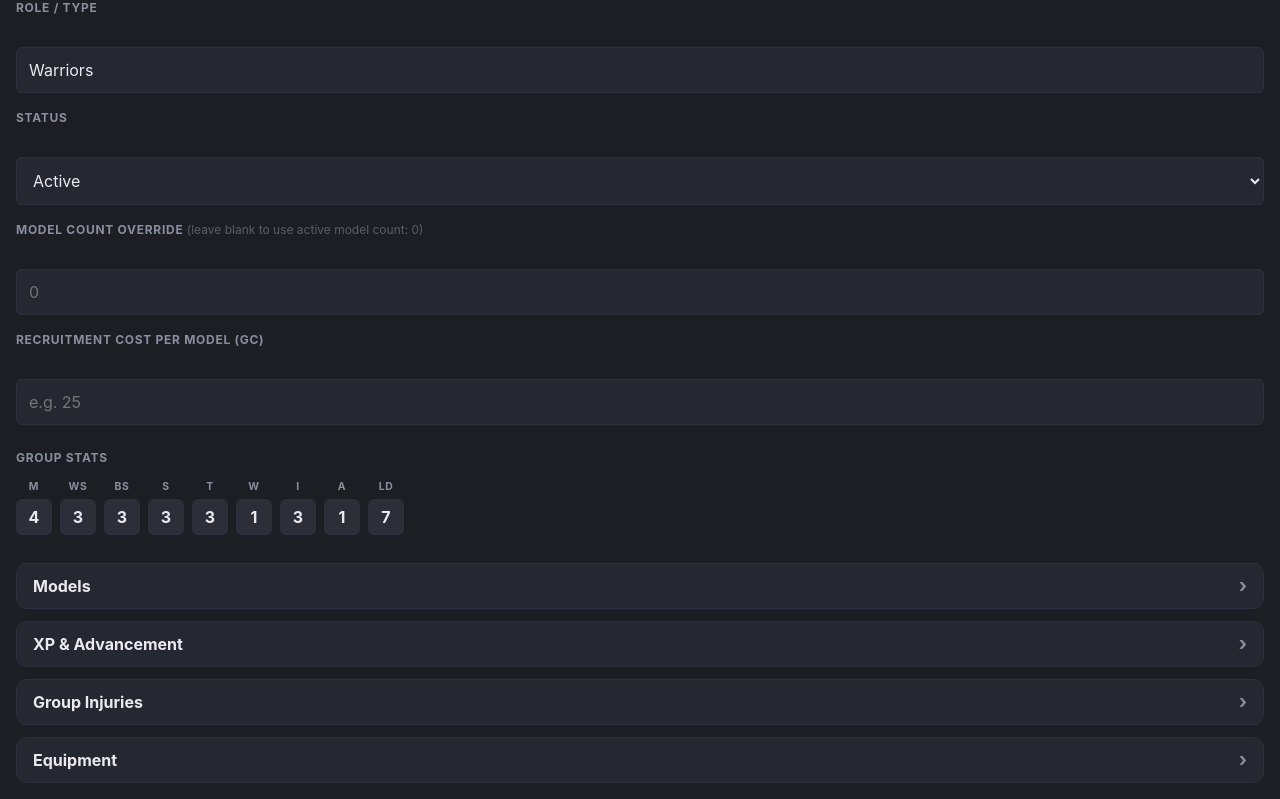
Scenario: HenchmanGroupDetailPage › can add an advancement note
(page scrolled)
Click the button "XP & Advancement ›". click: click(108, 644)
box: x1=17 y1=622 x2=1263 y2=666
(page scrolled)
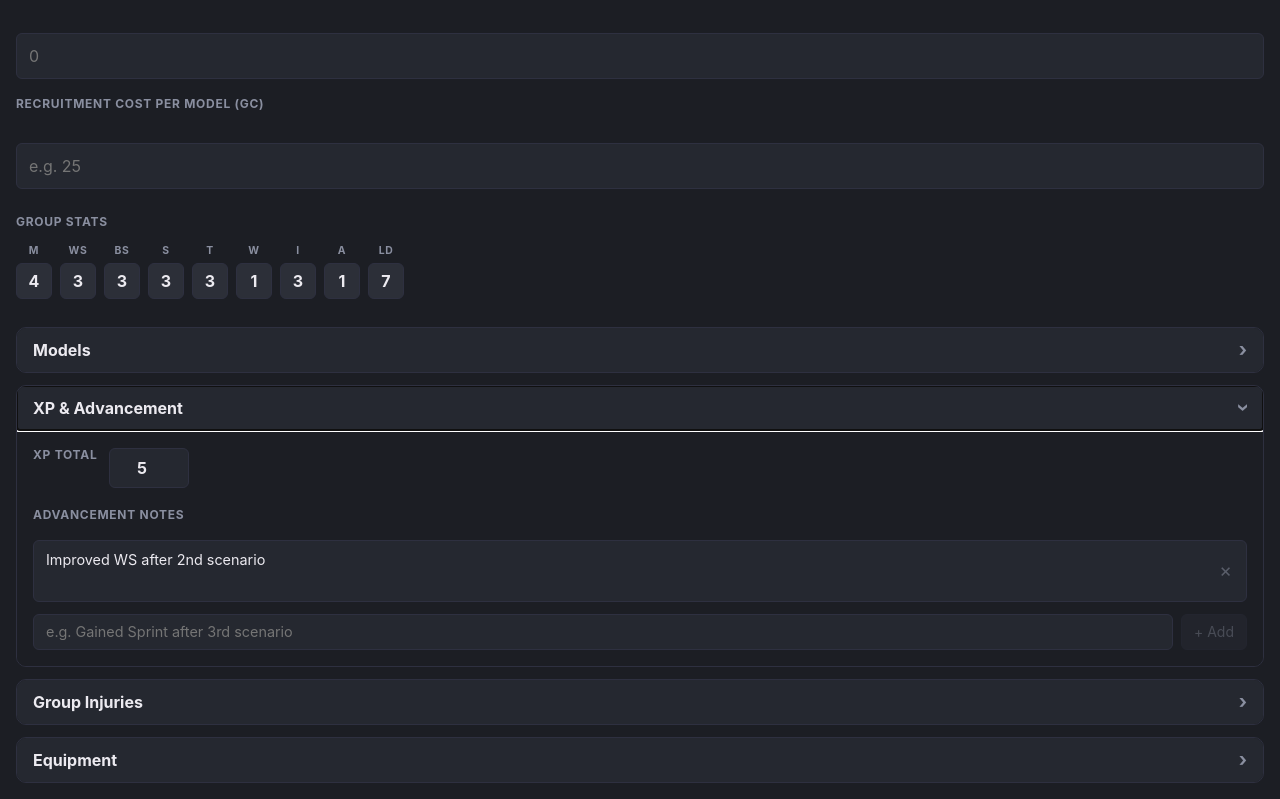
Type "Gained Resilient" into the field with placeholder "e.g. Gained Sprint after 3rd scenario". click: (603, 632)
box: x1=33 y1=614 x2=1173 y2=650
Then press Enter
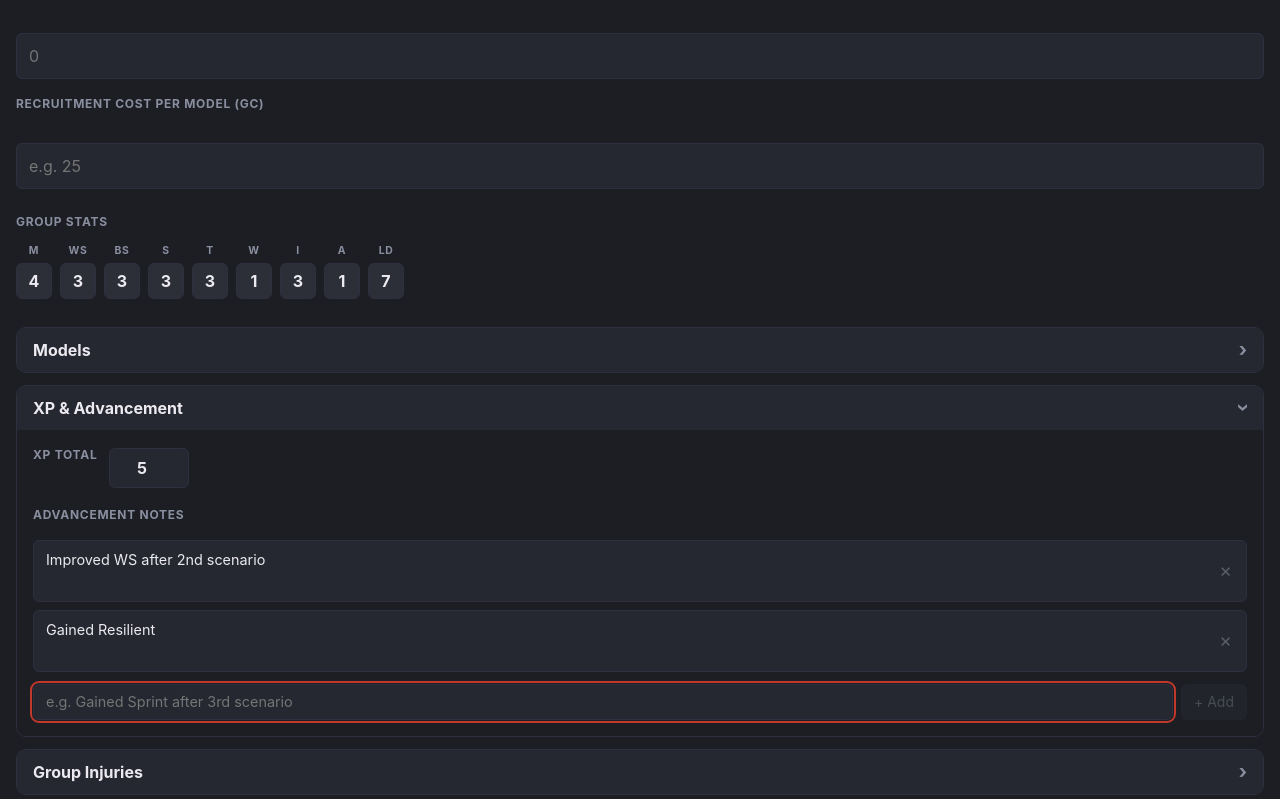
Check: the text "Gained Resilient" is shown, box x1=46 y1=621 x2=155 y2=638
